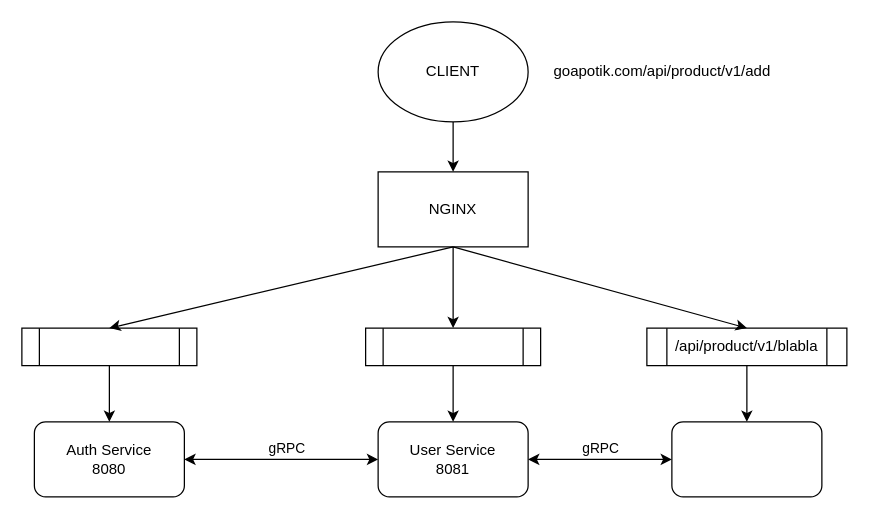
The diagram is 869 pixels wide and 519 high, and some of its shapes have lost their labels. Each missing label, with the centre of its shape:
/api/auth/v1/blabla: the point at 109,346
/api/user/v1/blabla: the point at 452,346
Product Service 8082: the point at 746,459
